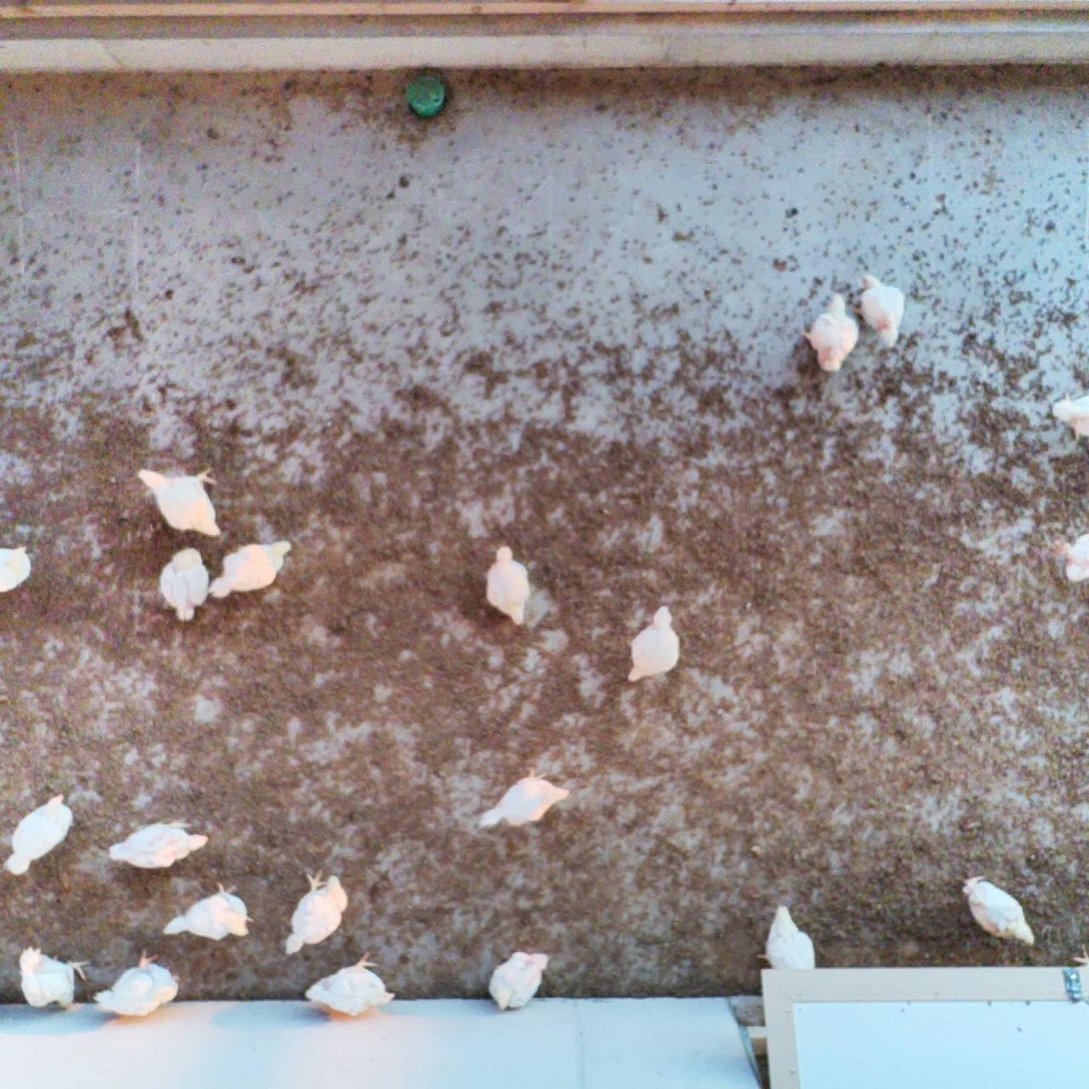chicken: (135, 460, 226, 542), (473, 765, 575, 836), (92, 944, 184, 1022), (280, 865, 353, 960), (302, 948, 400, 1018), (160, 876, 259, 944), (1, 793, 79, 879), (958, 872, 1043, 950), (105, 813, 210, 873), (205, 535, 298, 602), (796, 290, 863, 377), (847, 268, 913, 353), (623, 603, 686, 690), (15, 943, 92, 1011), (477, 542, 537, 629), (752, 901, 822, 971), (481, 946, 553, 1012), (157, 546, 211, 624), (1047, 387, 1089, 441), (1050, 529, 1089, 584), (0, 542, 32, 594)
